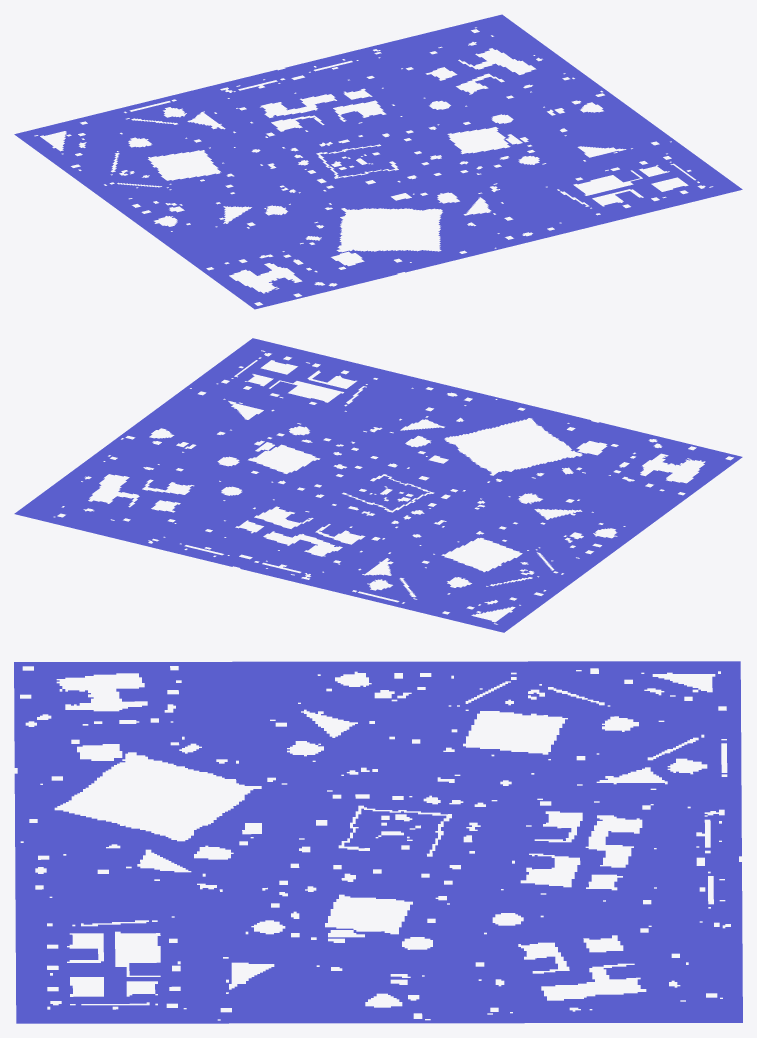
The model's file is navmesh3_old.glb.
3 views of the same model, one above another, from view 1: azimuth 30°, elevation 25°; view 2: azimuth 150°, elevation 25°; view 3: azimuth 270°, elevation 25° (orthographic). The views are drawn at different scales.
Parts seen in each view (by area): view 1: Navmesh_Mesh; view 2: Navmesh_Mesh; view 3: Navmesh_Mesh.
Boxes of the visible parts, bbox=[...] form: Navmesh_Mesh: bbox=[14, 14, 742, 309]; Navmesh_Mesh: bbox=[14, 338, 742, 632]; Navmesh_Mesh: bbox=[14, 661, 742, 1023].
Size of the model in its own units: 20.01 by 0 by 17.
